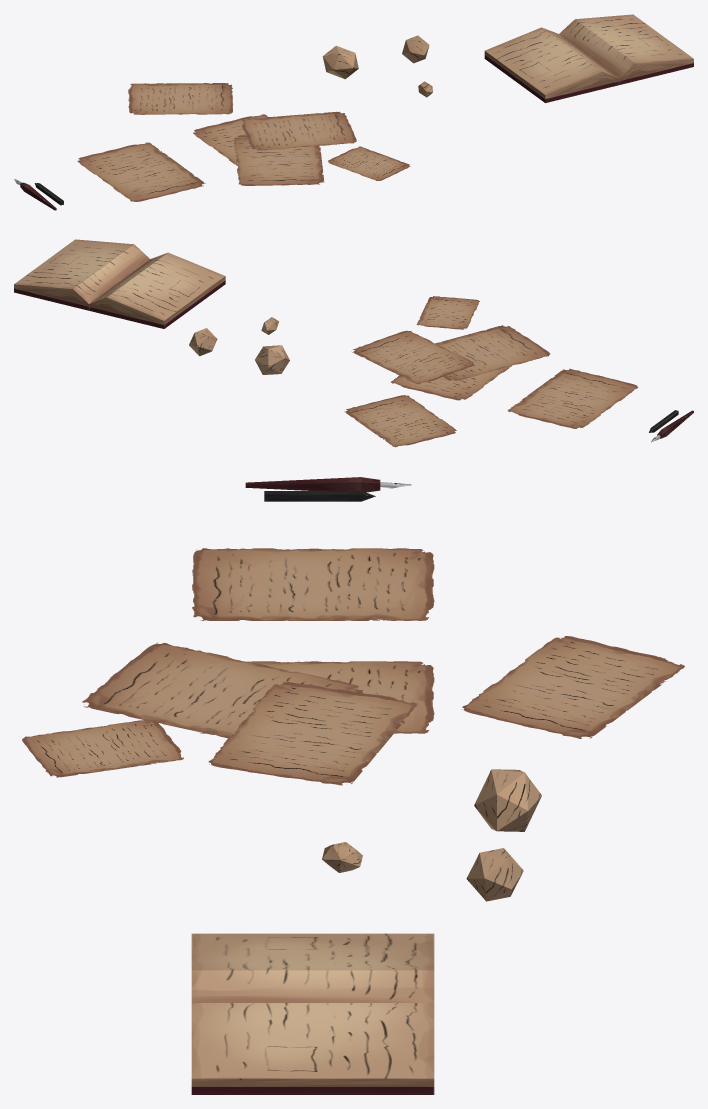
File: Writing_tools01.fbx
3 renders of one model, top to bottom at view 1: azimuth 30°, elevation 25°; view 2: azimuth 150°, elevation 25°; view 3: azimuth 270°, elevation 25°, orthographic. The views are drawn at different scales.
Visible parts, largest first — view 1: Writing_tools01, Book01; view 2: Writing_tools01, Book01; view 3: Writing_tools01, Book01.
Part boxes in pixels (box(x1,y1,x2,y2)): Writing_tools01: box(14, 35, 432, 210); Book01: box(484, 14, 693, 102); Writing_tools01: box(189, 296, 693, 447); Book01: box(14, 239, 225, 328); Writing_tools01: box(22, 477, 684, 901); Book01: box(191, 933, 434, 1094).
Size of the model in its own units: 1.79 by 0.082 by 0.8293.
Materials: 1 (1 with a texture image).
